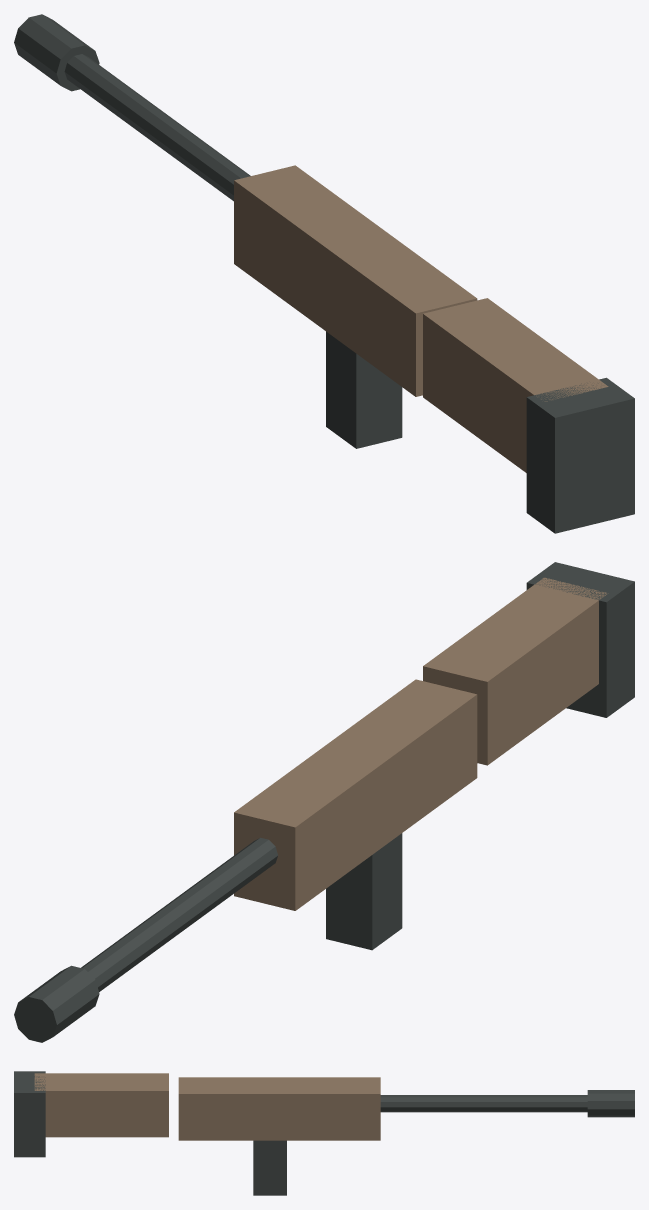
The model's file is weapon_mosin.glb.
3 views of the same model, one above another, from view 1: azimuth 30°, elevation 25°; view 2: azimuth 150°, elevation 25°; view 3: azimuth 270°, elevation 25° (orthographic). The views are drawn at different scales.
Visible parts, largest first — view 1: receiver_0, stock_4, butt_5, barrel_1, grip_3, muzzle_2; view 2: receiver_0, stock_4, barrel_1, butt_5, grip_3, muzzle_2; view 3: receiver_0, stock_4, barrel_1, butt_5, grip_3, muzzle_2.
Boxes of the visible parts, left/top/right/bottom form: receiver_0: left=234, top=165, right=477, bottom=396; stock_4: left=423, top=298, right=608, bottom=472; butt_5: left=526, top=377, right=634, bottom=533; barrel_1: left=64, top=54, right=250, bottom=201; grip_3: left=326, top=331, right=402, bottom=448; muzzle_2: left=14, top=14, right=99, bottom=91; receiver_0: left=234, top=679, right=477, bottom=910; stock_4: left=423, top=577, right=608, bottom=765; barrel_1: left=81, top=837, right=277, bottom=991; butt_5: left=526, top=562, right=634, bottom=717; grip_3: left=326, top=833, right=402, bottom=950; muzzle_2: left=14, top=965, right=99, bottom=1042; receiver_0: left=178, top=1077, right=380, bottom=1140; stock_4: left=34, top=1073, right=168, bottom=1137; barrel_1: left=380, top=1095, right=587, bottom=1112; butt_5: left=14, top=1071, right=45, bottom=1157; grip_3: left=253, top=1140, right=286, bottom=1195; muzzle_2: left=587, top=1090, right=634, bottom=1117.
Size of the model in its own units: 0.13 by 0.3 by 1.58.
